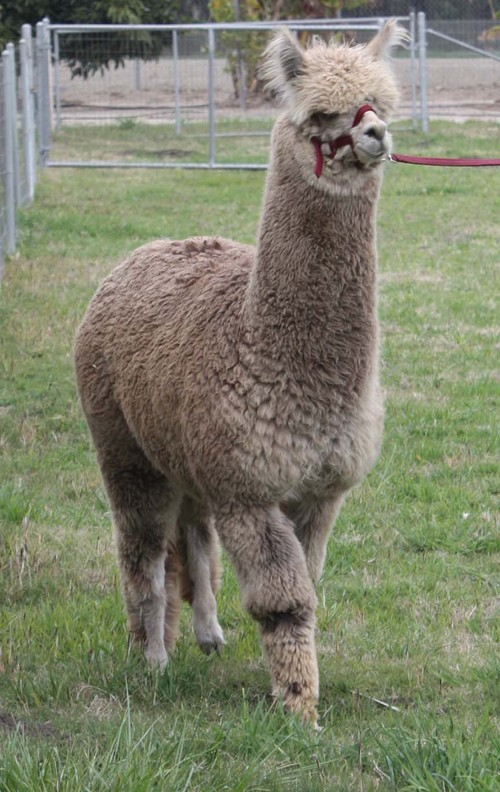alpaca: (77, 16, 408, 729)
